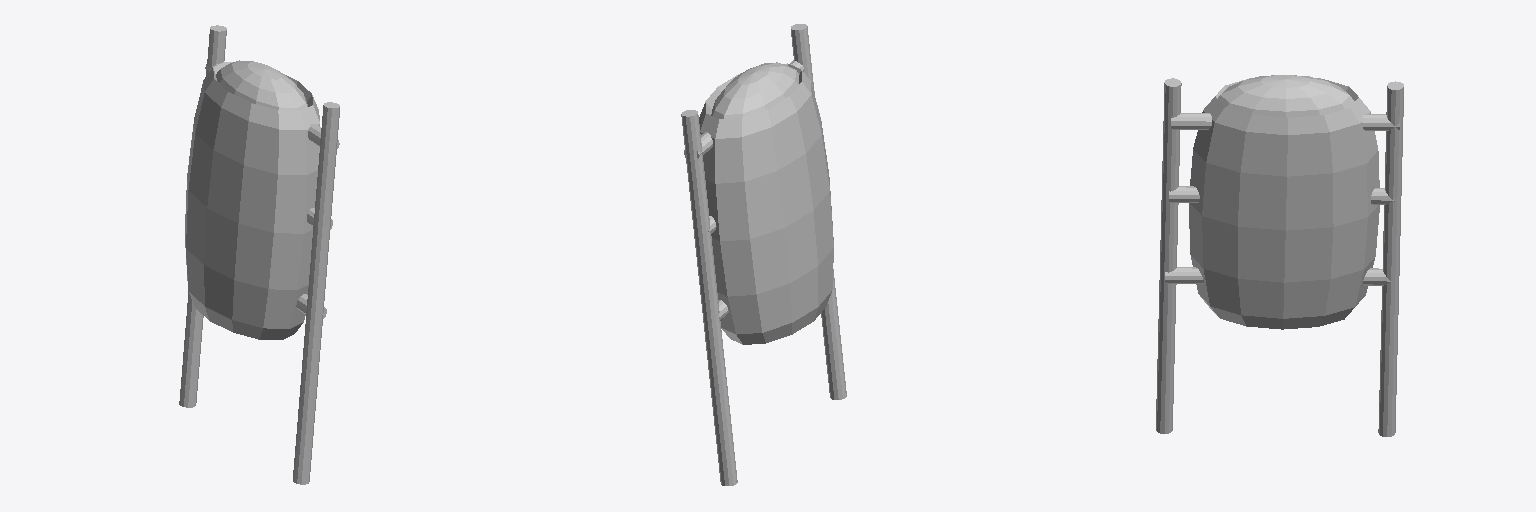
Rendered from TowelRail.obj.
3 renders of one model, left to right at view 1: azimuth 30°, elevation 25°; view 2: azimuth 150°, elevation 25°; view 3: azimuth 270°, elevation 25°, orthographic.
Visible parts, largest first — view 1: group[number redacted]; view 2: group[number redacted]; view 3: group[number redacted].
Part boxes in pixels (x1,y1,x2,y2): group[number redacted]: (179, 25, 339, 484); group[number redacted]: (681, 24, 846, 485); group[number redacted]: (1156, 75, 1403, 436).
Size of the model in its own units: 0.3438 by 1.19 by 0.7254.